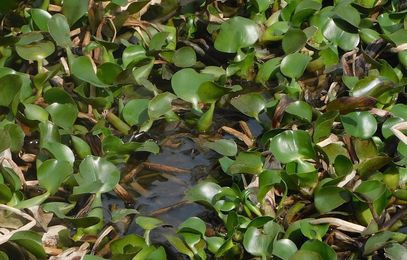water_hyacinth: (1, 1, 407, 259)
